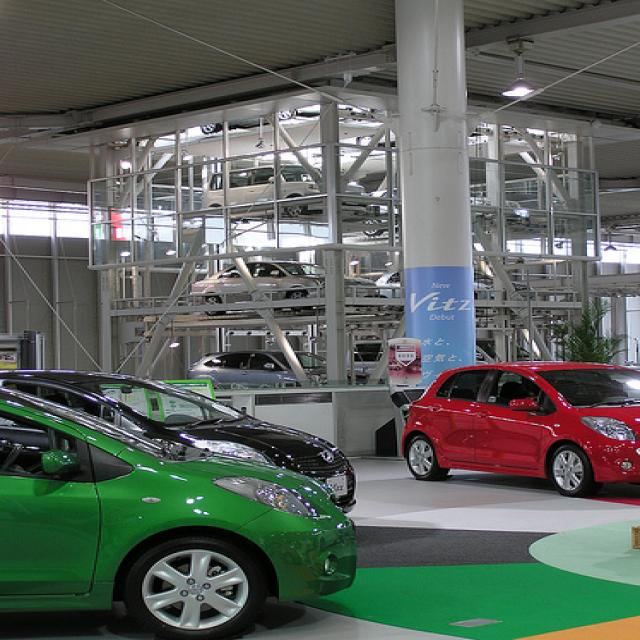Car: (0, 401, 360, 640), (394, 362, 640, 489)
